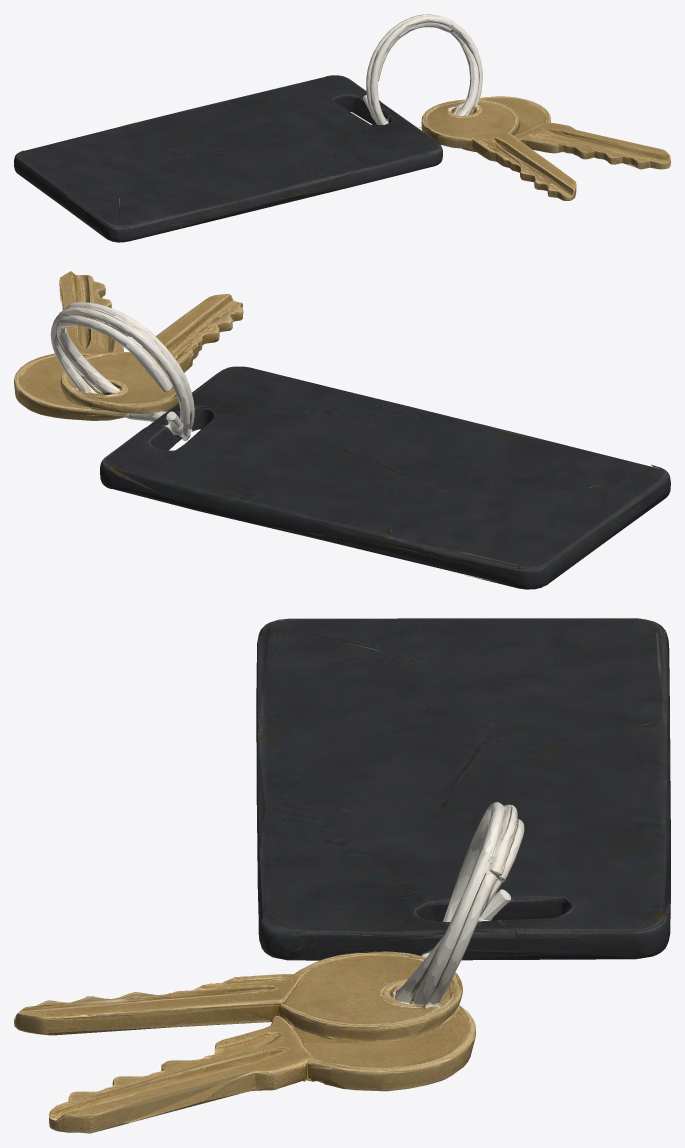
The model's file is w51keycard.glb.
3 views of the same model, one above another, from view 1: azimuth 30°, elevation 25°; view 2: azimuth 150°, elevation 25°; view 3: azimuth 270°, elevation 25° (orthographic). The views are drawn at different scales.
Parts seen in each view (by area): view 1: output_unwrapped; view 2: output_unwrapped; view 3: output_unwrapped.
Part boxes in pixels (x1=…): output_unwrapped: x1=14, y1=14, x2=670, y2=242; output_unwrapped: x1=14, y1=271, x2=670, y2=589; output_unwrapped: x1=14, y1=618, x2=670, y2=1133.
Bounding box in the file's own units: 0.15 × 0.0288 × 0.087.
1 material, 1 textured.
